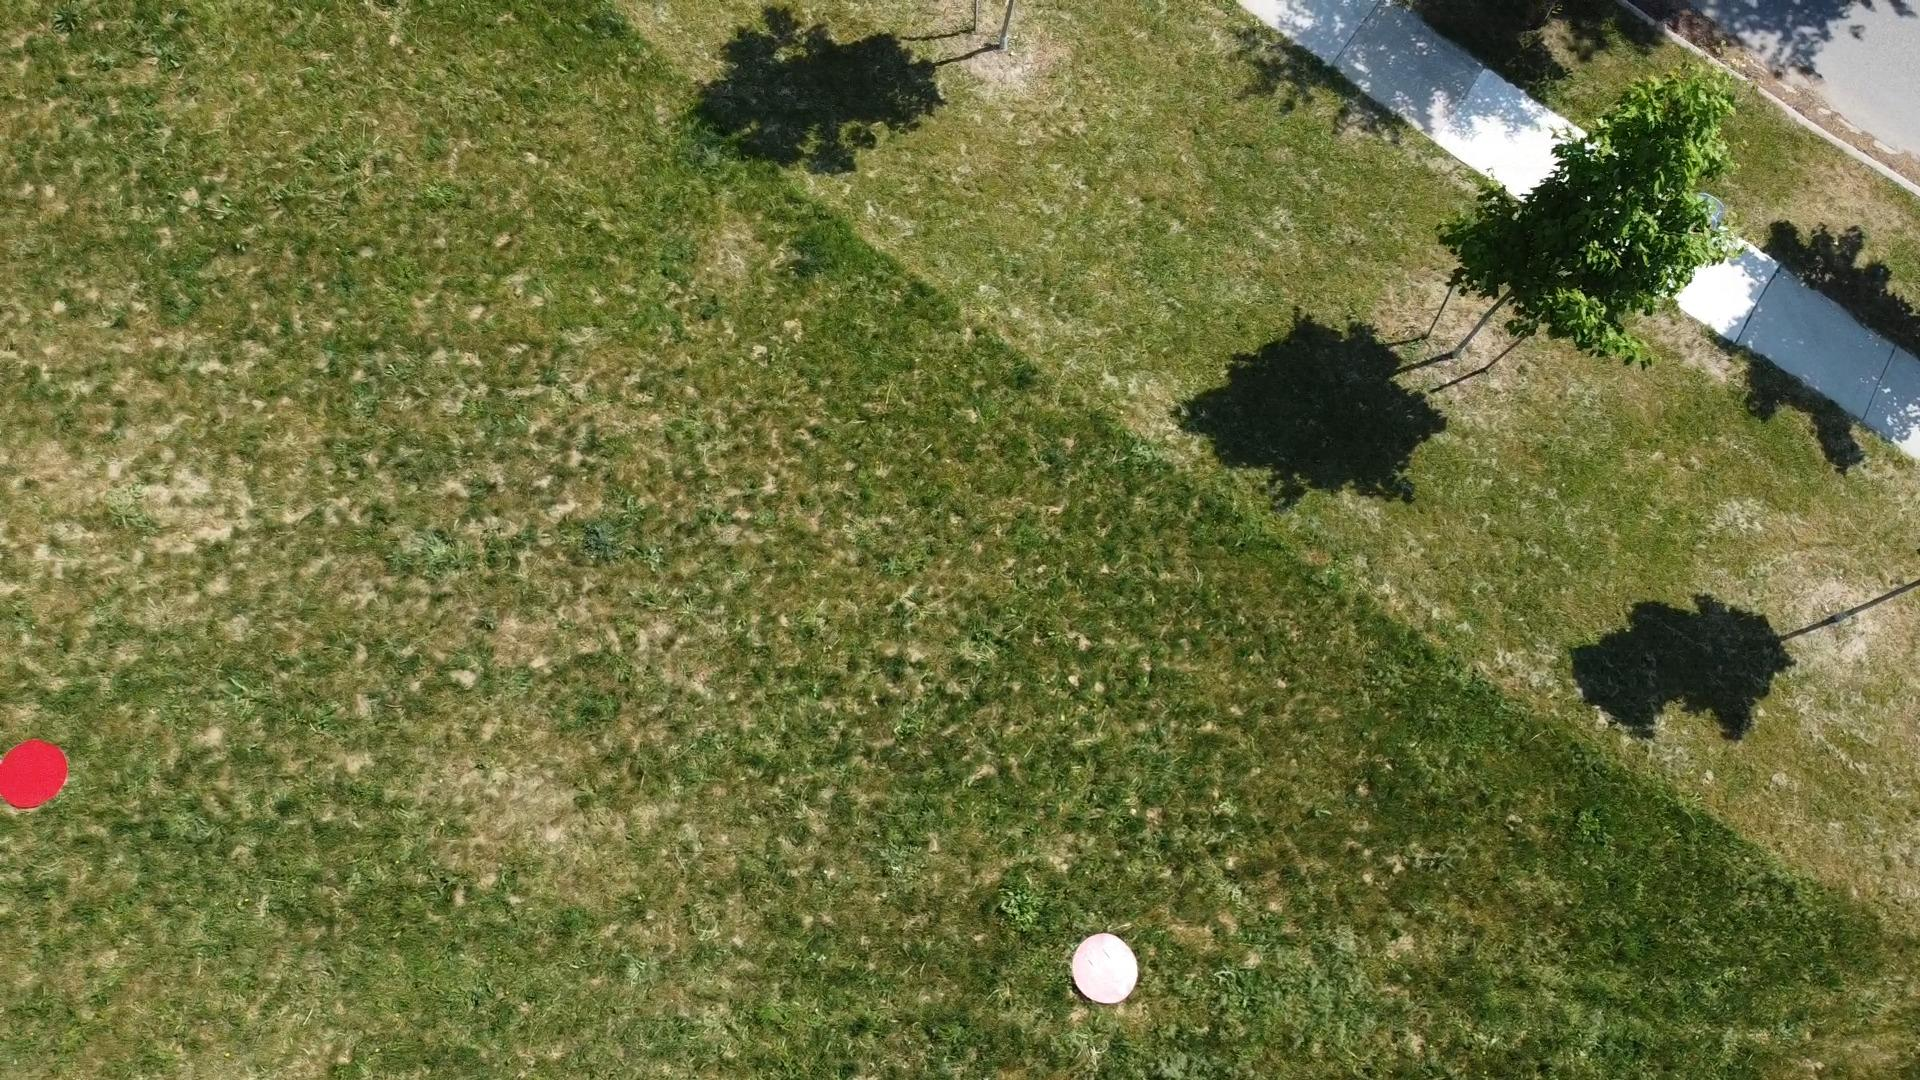Red: (1065, 931, 1141, 1006), (0, 737, 71, 812)
